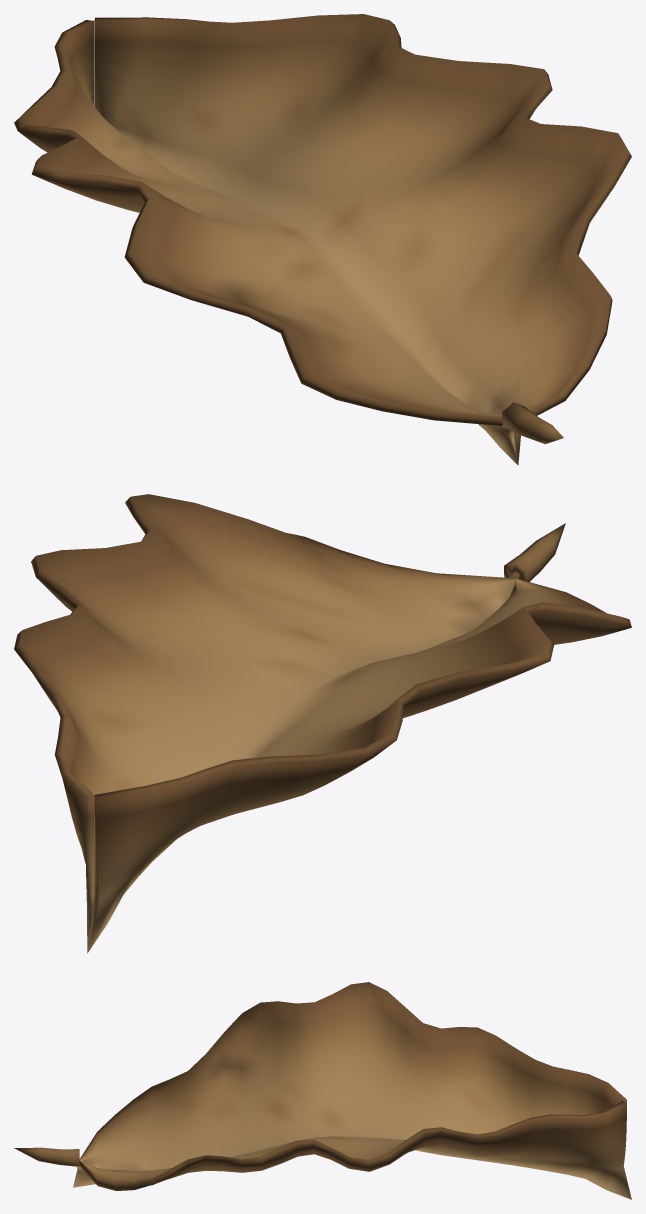
The model's file is Leaf_Oak_Brown.fbx.
3 renders of one model, top to bottom at view 1: azimuth 30°, elevation 25°; view 2: azimuth 150°, elevation 25°; view 3: azimuth 270°, elevation 25°, orthographic. The views are drawn at different scales.
Visible parts, largest first — view 1: Leaf_Oak_Brown; view 2: Leaf_Oak_Brown; view 3: Leaf_Oak_Brown.
Part boxes in pixels (x1,y1,x2,y2): Leaf_Oak_Brown: (14,14,631,465); Leaf_Oak_Brown: (14,494,631,953); Leaf_Oak_Brown: (14,982,631,1199).
Size of the model in its own units: 3.56 by 1.41 by 5.69.
